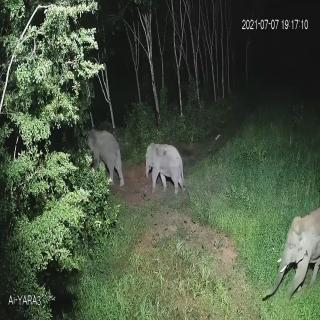Elephant: (261, 201, 320, 313), (82, 119, 129, 198), (144, 140, 192, 203)
